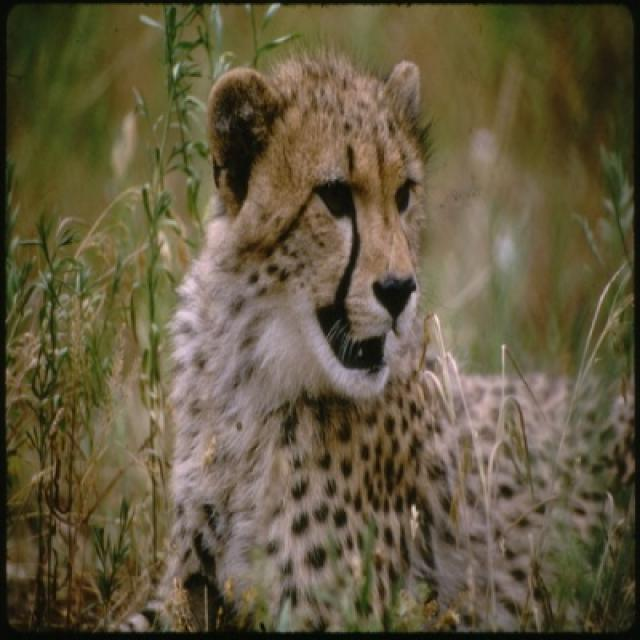Cheetah: (146, 48, 635, 634)
